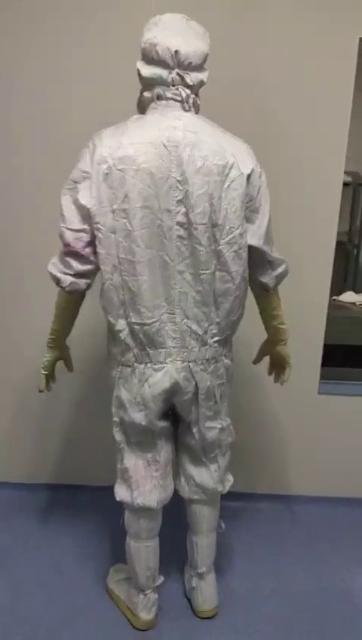boot_secured: (86, 489, 184, 637), (174, 484, 252, 640)
gloves_fitted_securely: (242, 257, 318, 405), (33, 272, 101, 416)
headgear_secured: (118, 0, 220, 120)
